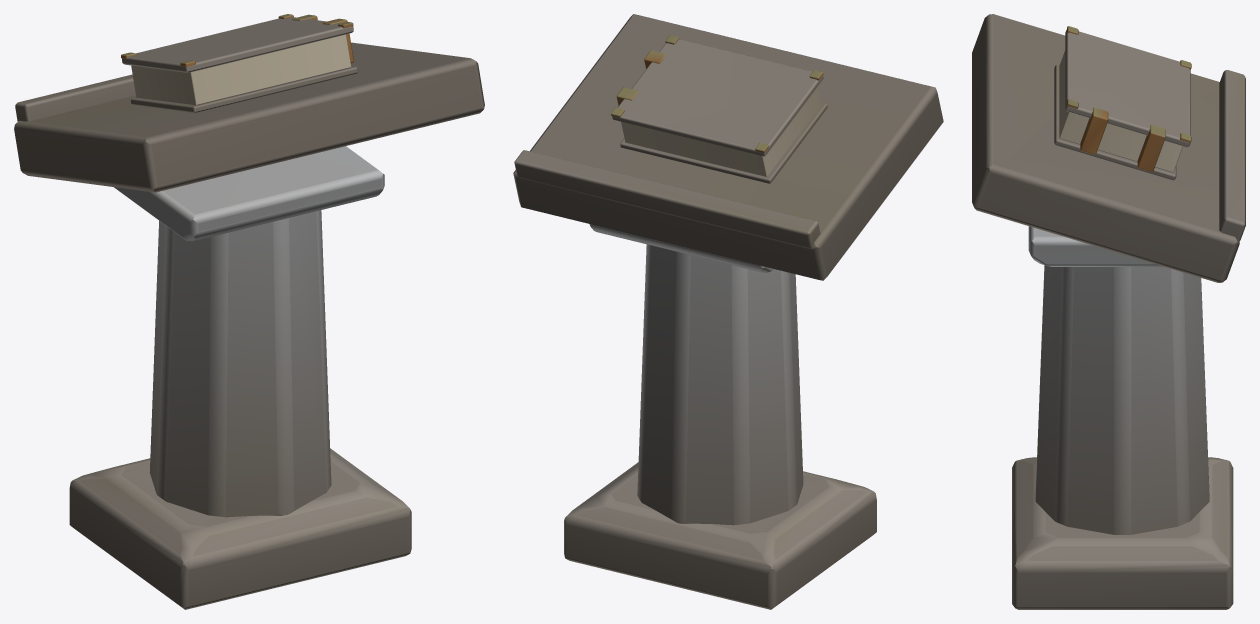
The model's file is mech_lectern.glb.
The picture shows the model from 3 angles, left to right: view 1: azimuth 30°, elevation 25°; view 2: azimuth 150°, elevation 25°; view 3: azimuth 270°, elevation 25°; orthographic projection. The views are drawn at different scales.
Visible parts, largest first — view 1: mech_lectern_LOD0; view 2: mech_lectern_LOD0; view 3: mech_lectern_LOD0.
Part boxes in pixels (bbox=[...]): mech_lectern_LOD0: bbox=[14, 14, 484, 609]; mech_lectern_LOD0: bbox=[513, 14, 943, 609]; mech_lectern_LOD0: bbox=[972, 14, 1245, 609].
Size of what is drawn, in the model's own units: 1.1 by 1.63 by 0.816.
